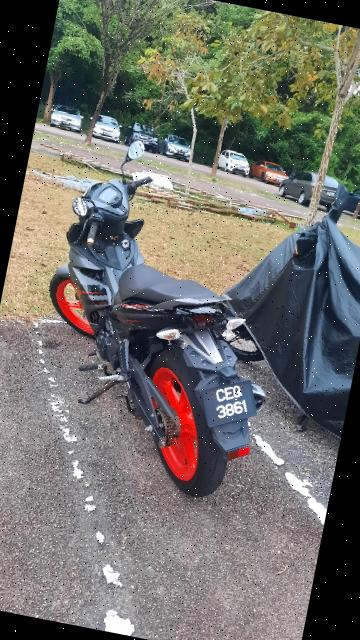License_Plate: (187, 365, 272, 438)
motorcycle: (15, 122, 312, 513)
